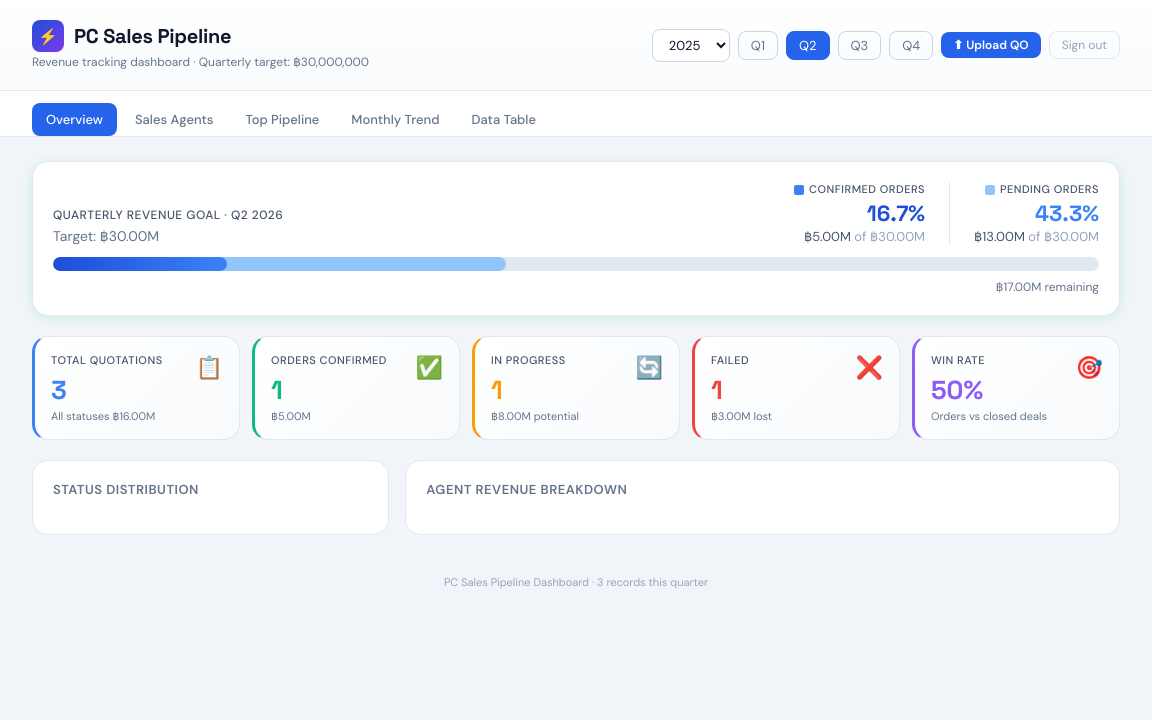
Dashboard › Monthly Trend Tab › shows month cards for current quarter
The image size is (1152, 720).
Expected: the heading "PC Sales Pipeline" is shown, [74, 23, 231, 49]
Click the button "Monthly Trend": x=395, y=120 [337, 103, 454, 136]
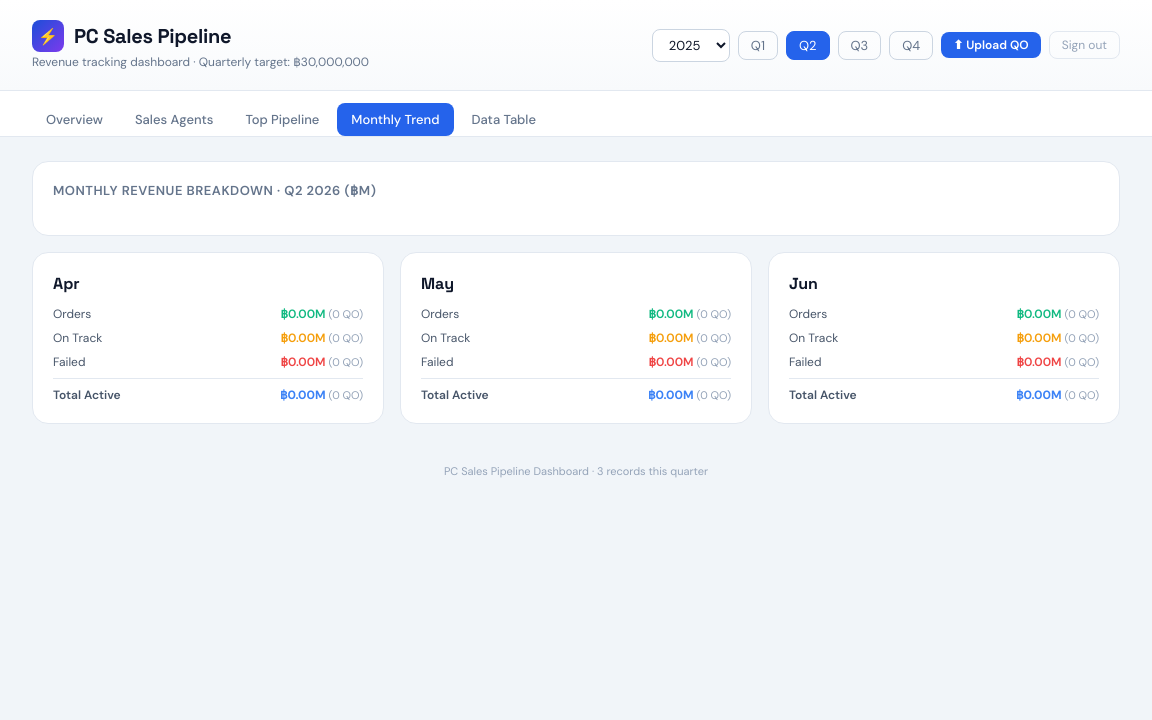
Now the text "Apr" is shown, box [53, 273, 80, 294]
Now the text "May" is shown, box [421, 273, 454, 294]
Now the text "Jun" is shown, box [789, 273, 818, 294]
